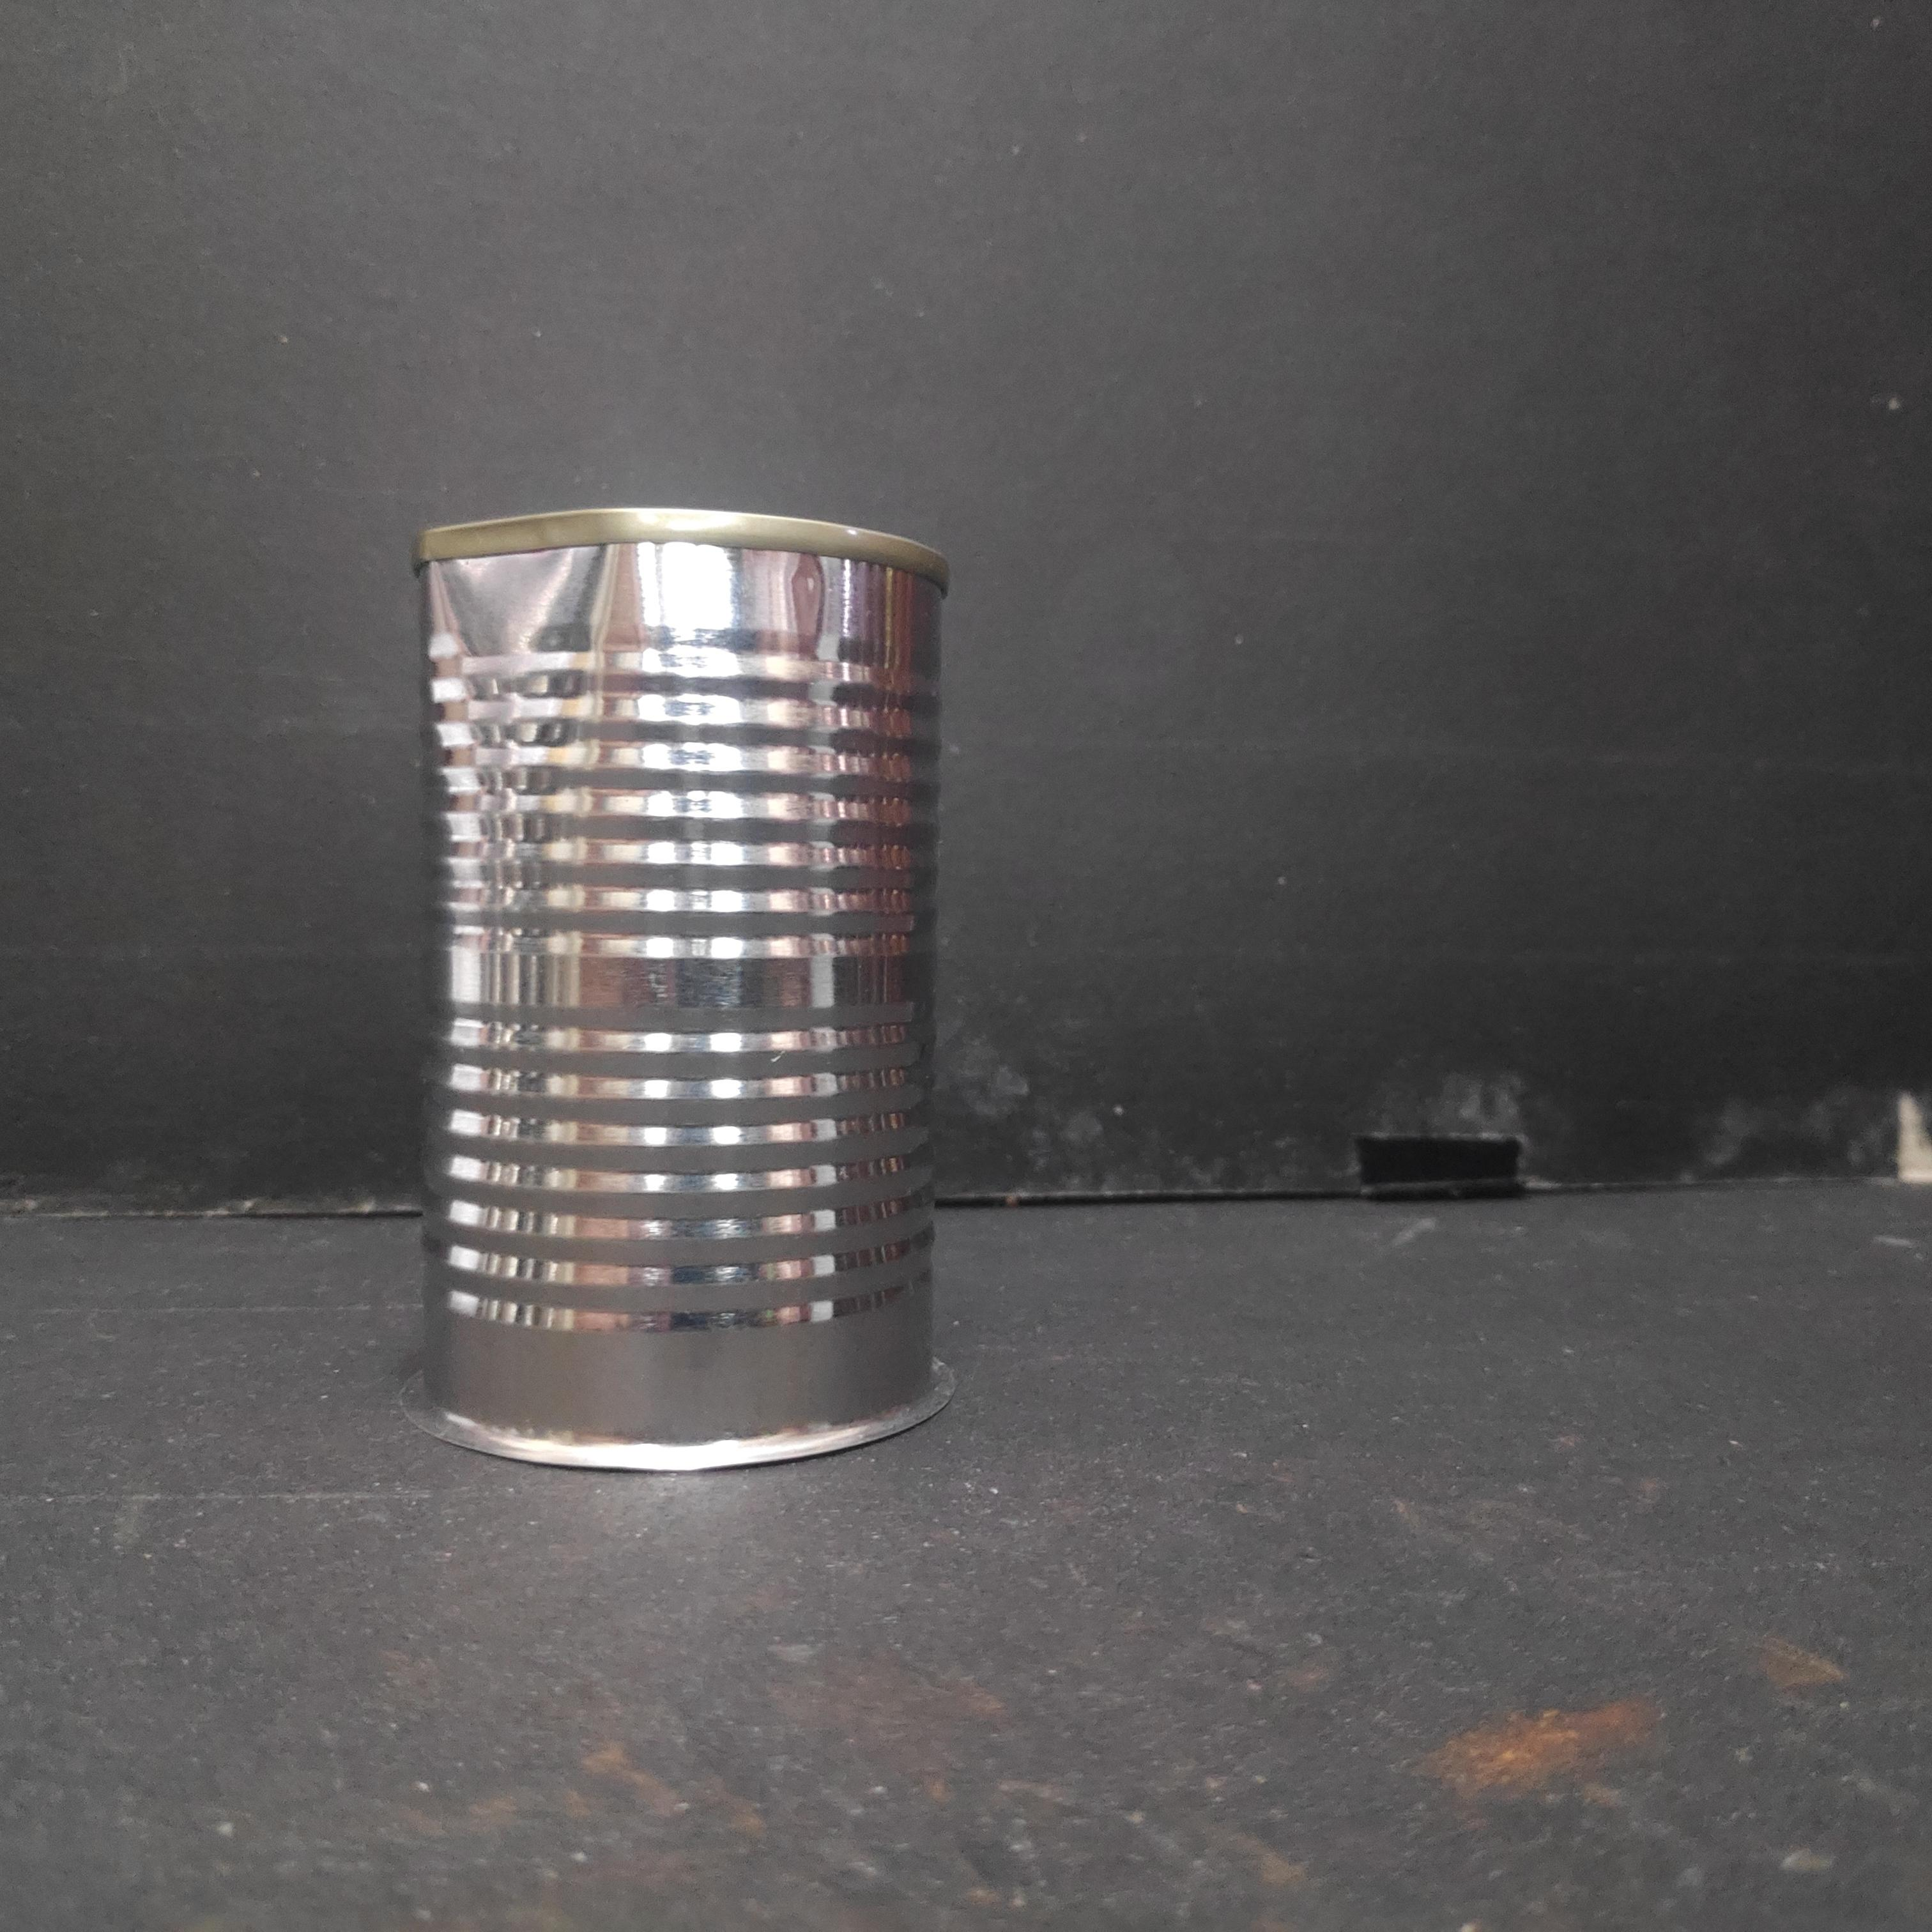Minor Defect: (407, 492, 961, 1483)
